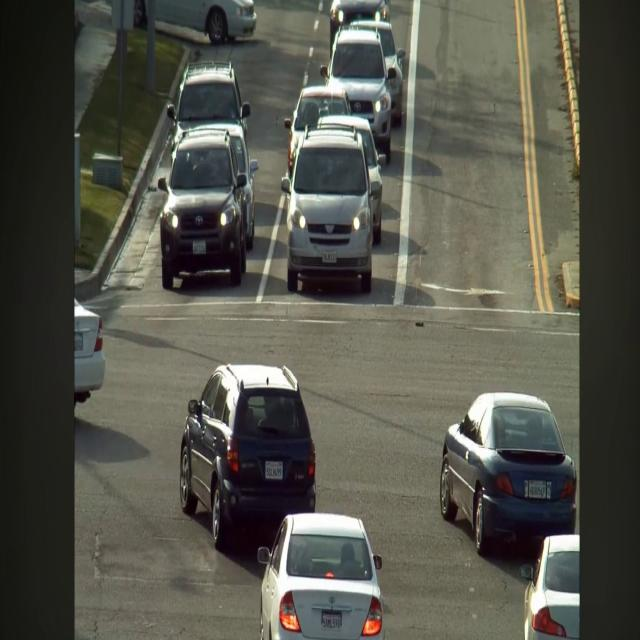car: (180, 364, 315, 551), (440, 392, 576, 555), (281, 126, 378, 293), (258, 513, 384, 639), (158, 127, 247, 289), (320, 30, 396, 162), (318, 116, 385, 245), (166, 62, 250, 147), (208, 123, 258, 250), (520, 535, 579, 639), (284, 86, 350, 176), (349, 20, 405, 126), (155, 0, 256, 45), (74, 300, 105, 406), (330, 0, 389, 50)
